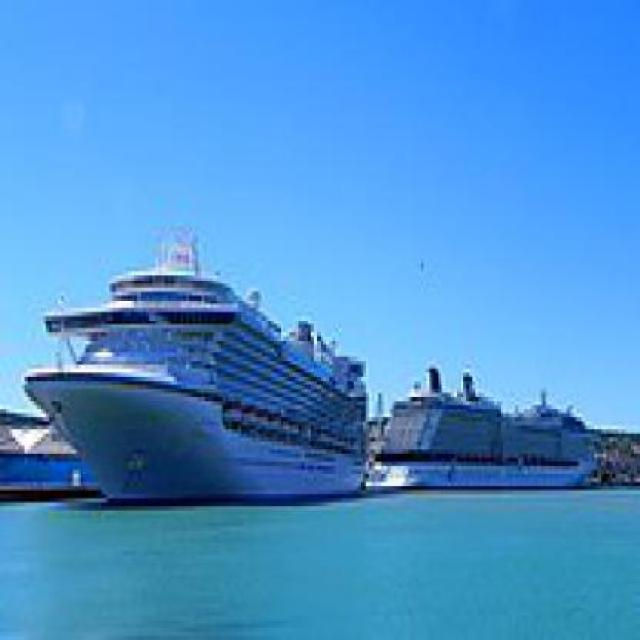cruise: (20, 216, 380, 508), (364, 366, 620, 500)
